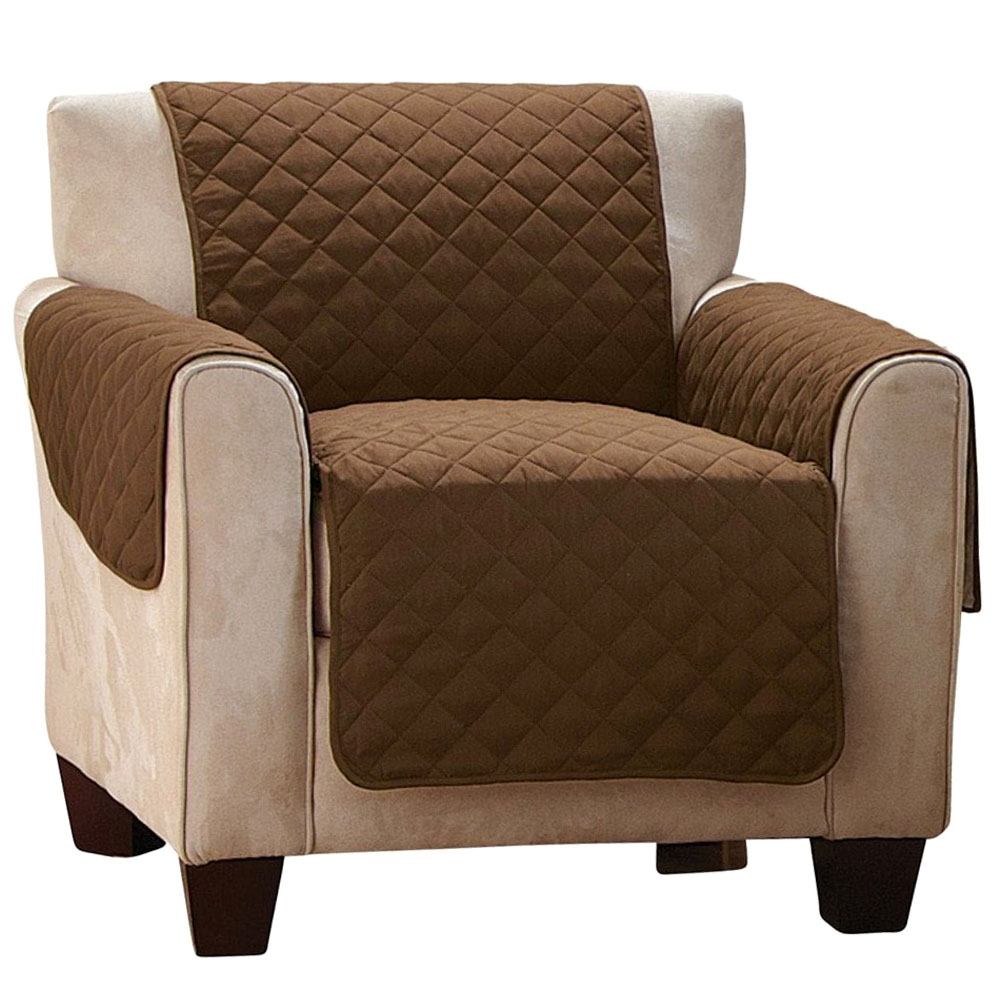sova: (37, 78, 978, 957)
